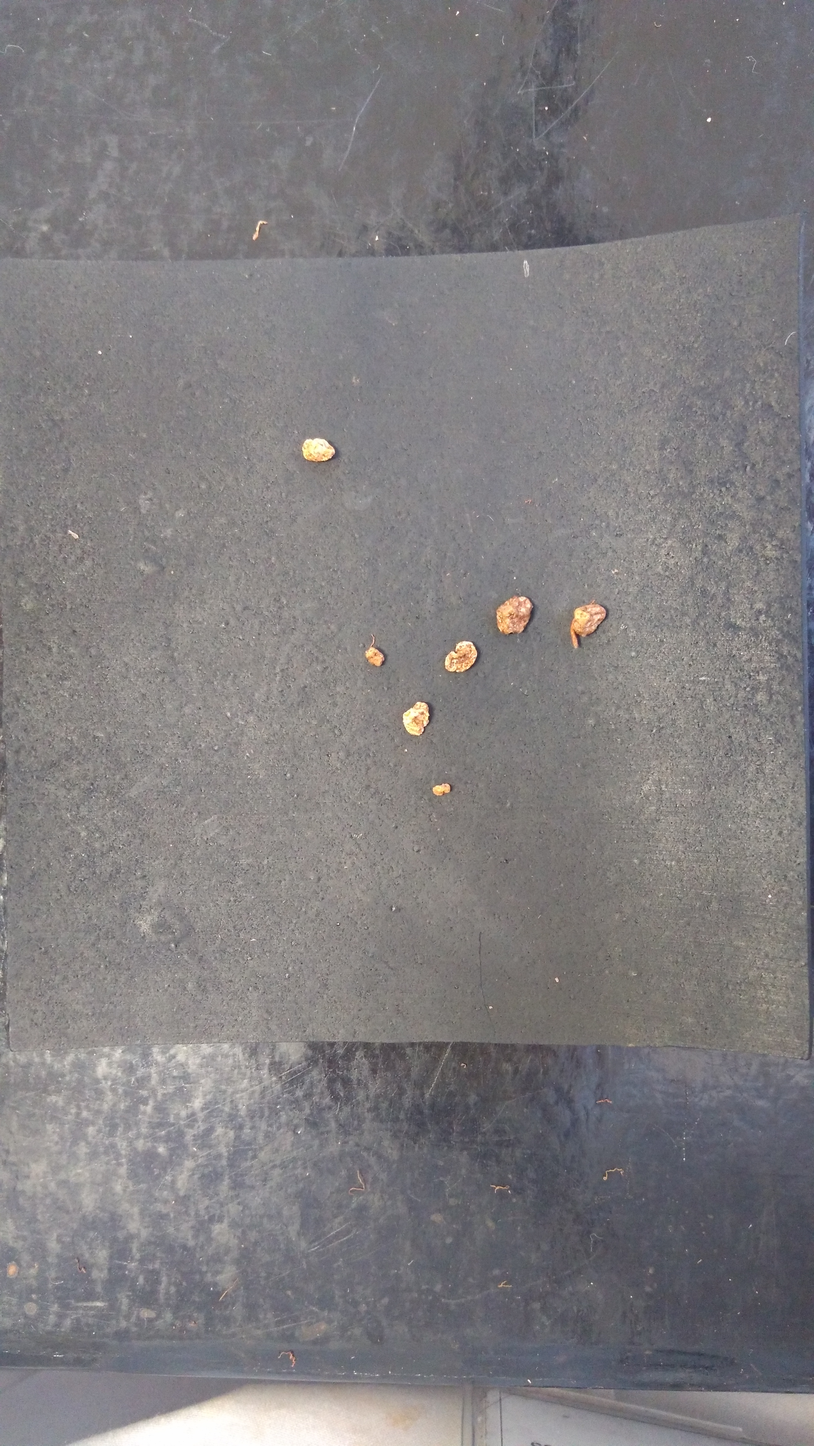nodule: (495, 595, 533, 636), (570, 603, 607, 637), (444, 641, 478, 673), (402, 701, 431, 736), (302, 437, 336, 463), (364, 647, 385, 667), (432, 782, 451, 797)
